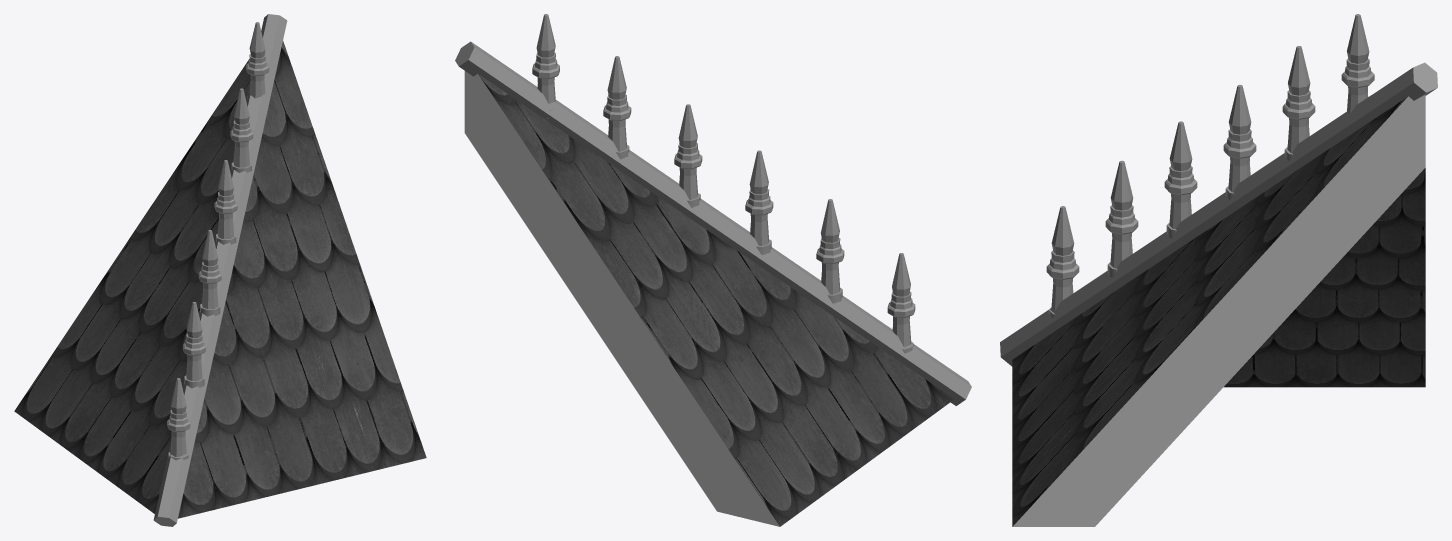
File: SM_Roof_A_003.FBX
3 renders of one model, left to right at view 1: azimuth 30°, elevation 25°; view 2: azimuth 150°, elevation 25°; view 3: azimuth 270°, elevation 25°, orthographic. The views are drawn at different scales.
Visible parts, largest first — view 1: SM_Roof_A_003; view 2: SM_Roof_A_003; view 3: SM_Roof_A_003.
Part boxes in pixels (bbox=[...]): SM_Roof_A_003: bbox=[14, 14, 426, 526]; SM_Roof_A_003: bbox=[455, 14, 971, 526]; SM_Roof_A_003: bbox=[1000, 14, 1437, 526].
Bounding box in the file's own units: 265 × 329 × 265.
